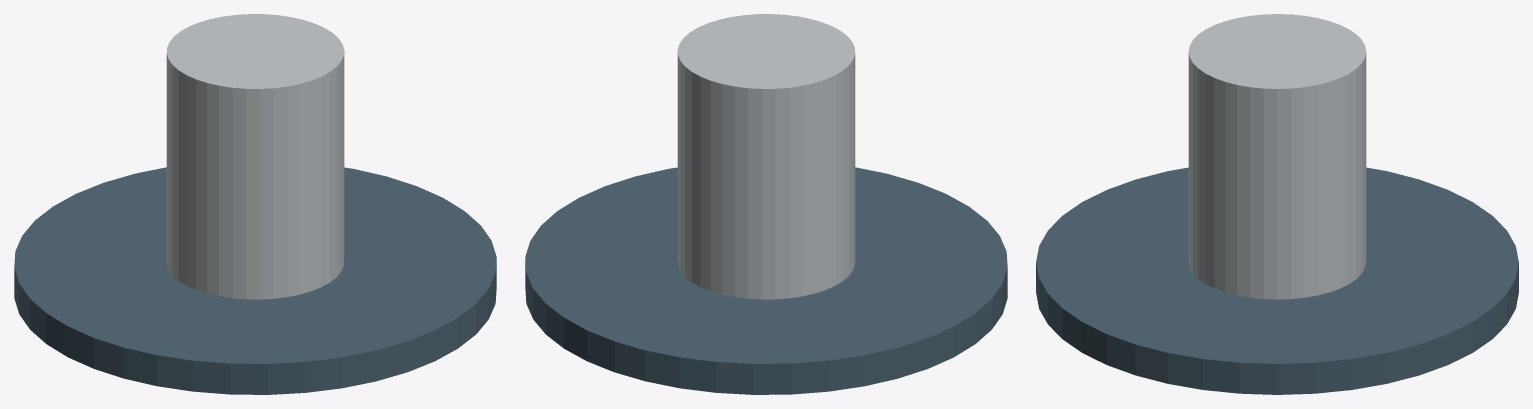
The model's file is 08_L76_CathodeRotarySpindle.glb.
3 views of the same model, side by side, from view 1: azimuth 30°, elevation 25°; view 2: azimuth 150°, elevation 25°; view 3: azimuth 270°, elevation 25° (orthographic).
Parts seen in each view (by area): view 1: CathodeRotarySpindle_Node_0001, CathodeRotarySpindle_Node_0000; view 2: CathodeRotarySpindle_Node_0001, CathodeRotarySpindle_Node_0000; view 3: CathodeRotarySpindle_Node_0001, CathodeRotarySpindle_Node_0000.
Boxes of the visible parts, left/top/right/bottom form: CathodeRotarySpindle_Node_0001: left=14, top=167, right=496, bottom=394; CathodeRotarySpindle_Node_0000: left=166, top=14, right=344, bottom=299; CathodeRotarySpindle_Node_0001: left=525, top=167, right=1007, bottom=394; CathodeRotarySpindle_Node_0000: left=677, top=14, right=855, bottom=299; CathodeRotarySpindle_Node_0001: left=1036, top=167, right=1518, bottom=394; CathodeRotarySpindle_Node_0000: left=1188, top=14, right=1366, bottom=299.
Size of the model in its own units: 2.12 by 1.25 by 2.12.
